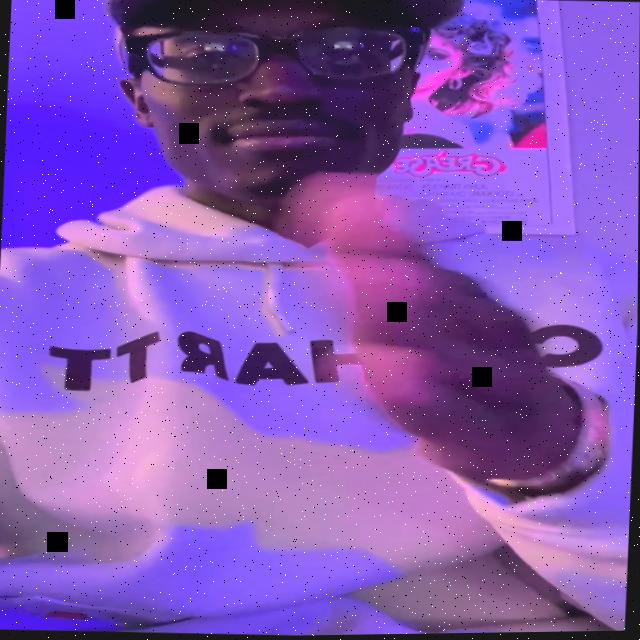Paper: (288, 170, 595, 488)
